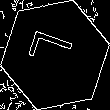L_E: (27, 32, 83, 78)
